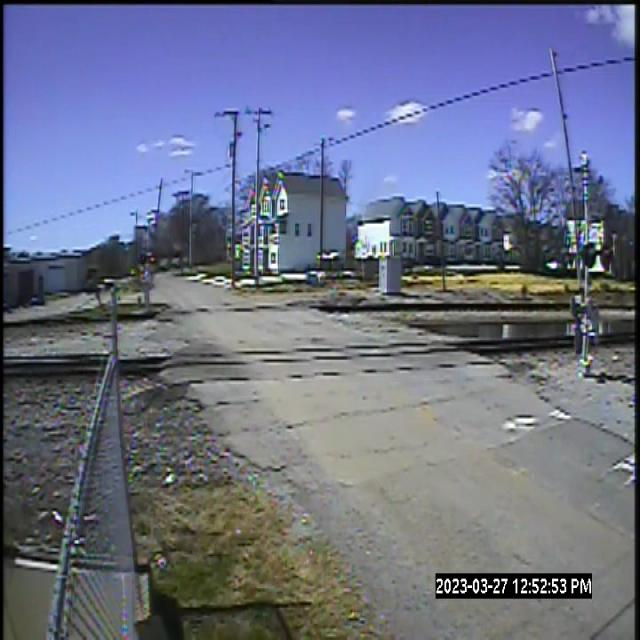barrier: (539, 36, 593, 226), (151, 172, 171, 252)
rails: (4, 322, 640, 374), (10, 284, 640, 321)
traffic-signal: (573, 230, 618, 387), (138, 247, 160, 317)
